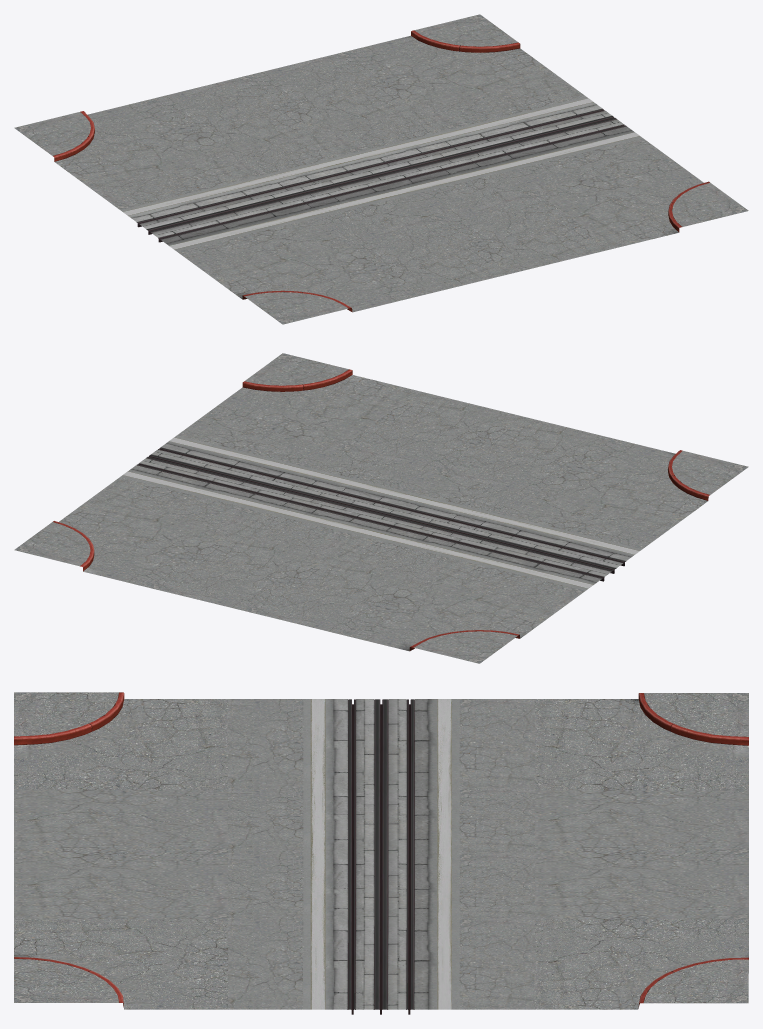
The model's file is RoadRail_Cross.fbx.
3 views of the same model, one above another, from view 1: azimuth 30°, elevation 25°; view 2: azimuth 150°, elevation 25°; view 3: azimuth 270°, elevation 25° (orthographic). The views are drawn at different scales.
Visible parts, largest first — view 1: RoadRail_Cross; view 2: RoadRail_Cross; view 3: RoadRail_Cross.
Boxes of the visible parts, x1=… form: RoadRail_Cross: x1=14, y1=14, x2=748, y2=324; RoadRail_Cross: x1=14, y1=353, x2=748, y2=663; RoadRail_Cross: x1=14, y1=692, x2=748, y2=1014.
Bounding box in the file's own units: 2001 × 35 × 2000.
